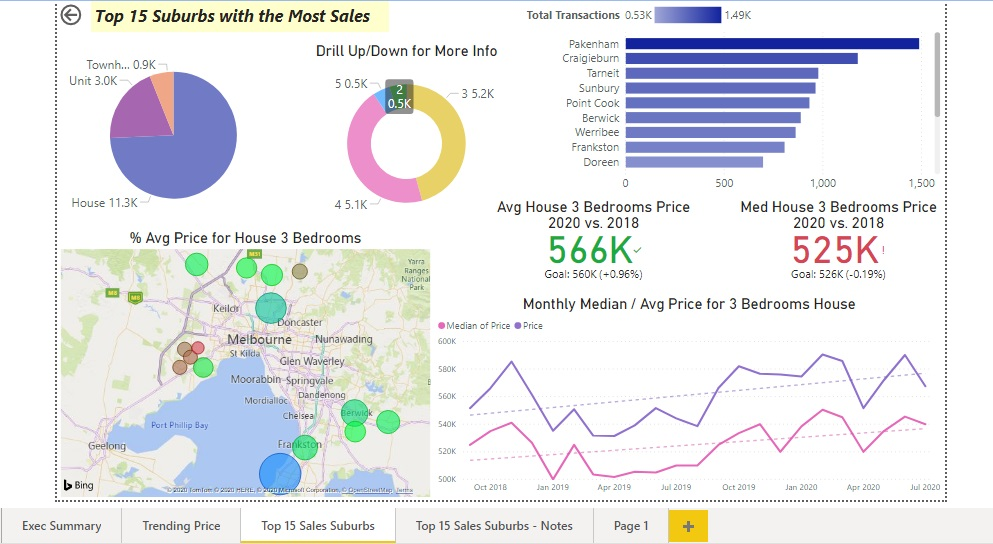

What the dashboard file says about the page in this screenshot:
{"tool":"powerbi","page":{"name":"Top 15 Sales Suburbs","canvas":[1280,720],"ordinal":2},"visuals":[{"type":"clusteredBarChart","title":"Top 10 Suburb with the Most Sales","fields":{"Y":["Melb_property_market_18_20.Total Transactions"],"Category":["Melb_property_market_18_20.Suburb"]},"box":[672.7,0,607.3,283.7],"z":0},{"type":"map","title":"% Avg Price for House 3 Bedrooms","fields":{"Category":["Melb_property_market_18_20.Melb_Location_Hierarchy.State","Melb_property_market_18_20.Melb_Location_Hierarchy.City","Melb_property_market_18_20.Melb_Location_Hierarchy.Suburb"],"Y":["Avg(Melb_property_market_18_20.Latitude)"],"X":["Avg(Melb_property_market_18_20.Longitude)"],"Size":["Melb_property_market_18_20.% Avg House Price 20/18"]},"box":[0,328.4,543.6,392.1],"z":1000},{"type":"pieChart","title":"Click on the property type for more info","fields":{"Y":["Melb_property_market_18_20.Total Transactions"],"Category":["Melb_property_market_18_20.Melb_Property_Hierarchy.PropertyType"]},"box":[0,59,336.3,269.4],"z":2000},{"type":"textbox","box":[49.4,0,430.4,44.6],"z":3000},{"type":"donutChart","title":"Drill Up/Down for More Info","fields":{"Y":["Melb_property_market_18_20.Total Transactions"],"Category":["Melb_property_market_18_20.Melb_Property_Hierarchy.PropertyType","Melb_property_market_18_20.Melb_Property_Hierarchy.Bedrooms"]},"box":[336.3,59,336.3,269.4],"z":4000},{"type":"actionButton","box":[0,0,100,40],"z":5000},{"type":"kpi","title":"Avg House 3 Bedrooms Price 2020 vs. 2018","fields":{"Indicator":["Melb_property_market_18_20.Avg 3 House Price 20"],"Goal":["Melb_property_market_18_20.Avg 3 House Price 18"],"TrendLine":["Melb_property_market_18_20.Year"]},"box":[621.7,283.7,304.5,132.3],"z":6000},{"type":"lineChart","title":"Monthly Median / Avg Price for 3 Bedrooms House","fields":{"Category":["Melb_property_market_18_20.Start of Month"],"Y":["Median(Melb_property_market_18_20.Price)","Avg(Melb_property_market_18_20.Price)"]},"box":[543.6,424,736.4,296.5],"z":7000},{"type":"kpi","title":"Med House 3 Bedrooms Price 2020 vs. 2018","fields":{"Goal":["Melb_property_market_18_20.Med 3 House Price 18"],"TrendLine":["Melb_property_market_18_20.Year"],"Indicator":["Melb_property_market_18_20.Med 3 House Price 20"]},"box":[975.5,283.7,304.5,132.3],"z":8000}]}

Visuals, with their boxes on the page's 1280x720 design canvas (x1, y1, x2, y2). These are canvas units, not pixel positions in the 993x544 screenshot, which may show the page scaled, cropped or inside an application window:
"Top 10 Suburb with the Most Sales" clusteredBarChart: 673:0:1280:284
"% Avg Price for House 3 Bedrooms" map: 0:328:544:720
"Click on the property type for more info" pieChart: 0:59:336:328
textbox: 49:0:480:45
"Drill Up/Down for More Info" donutChart: 336:59:673:328
actionButton: 0:0:100:40
"Avg House 3 Bedrooms Price 2020 vs. 2018" kpi: 622:284:926:416
"Monthly Median / Avg Price for 3 Bedrooms House" lineChart: 544:424:1280:720
"Med House 3 Bedrooms Price 2020 vs. 2018" kpi: 976:284:1280:416
